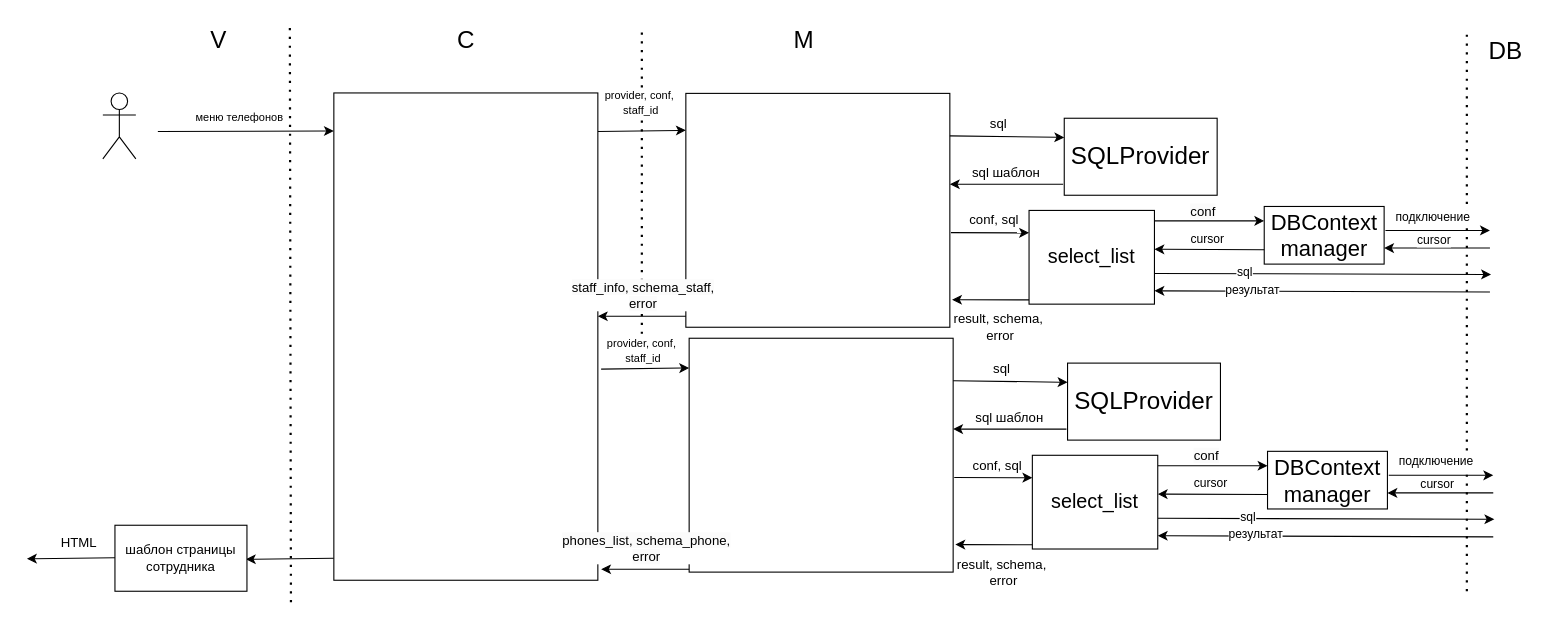
This 1552x623 diagram has some shape labels left out. The centre of each missing label's shape, as x and y in pixels:
"route" goes at (x=465, y=336).
"route_get_phones_by staff_id" goes at (x=820, y=454).
"route_get_staff_by id" goes at (x=817, y=209).
"User" goes at (x=119, y=125).
